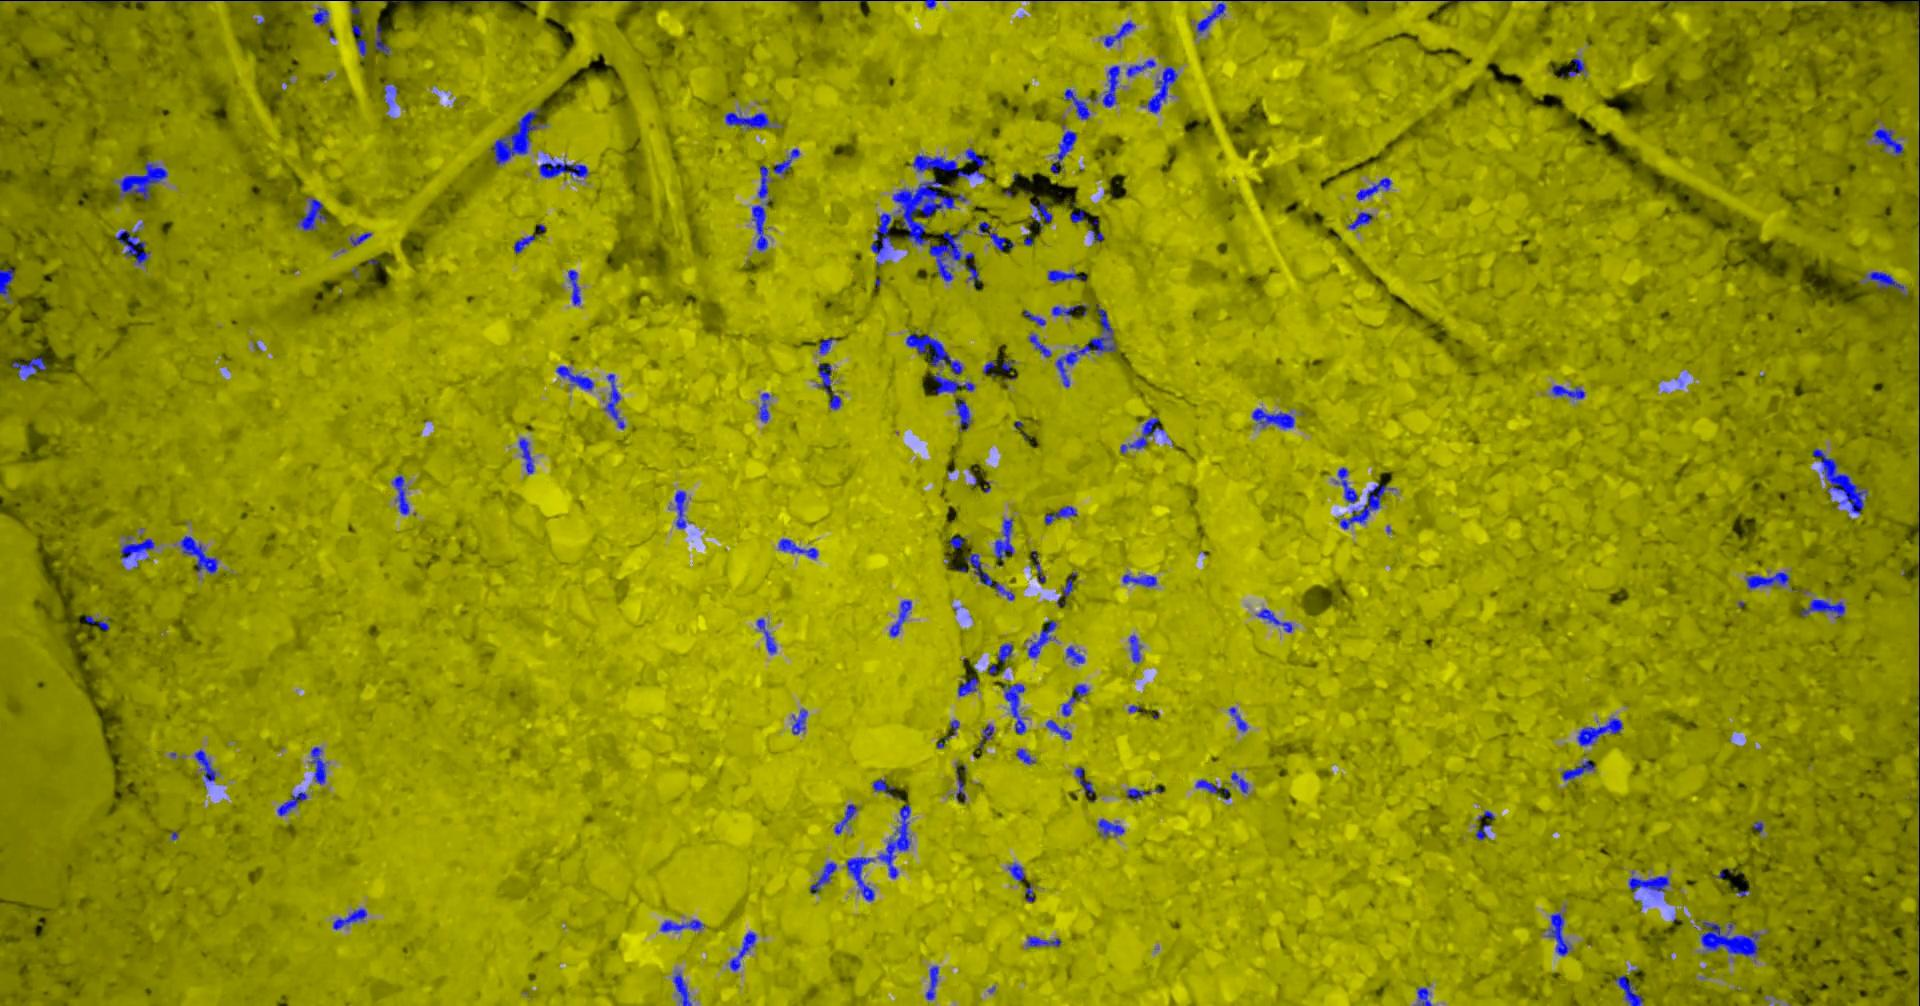ant: (1055, 304, 1116, 386), (1811, 448, 1867, 513), (491, 107, 543, 164), (1338, 481, 1396, 528), (877, 804, 910, 878), (905, 332, 963, 373), (964, 553, 1015, 600), (928, 227, 973, 281), (909, 149, 985, 177), (117, 161, 168, 199), (1142, 65, 1177, 112), (1120, 417, 1163, 453), (180, 535, 217, 573), (1576, 716, 1622, 746), (846, 856, 874, 901), (114, 229, 149, 264), (603, 373, 625, 428), (1049, 130, 1076, 173), (870, 213, 891, 267), (817, 363, 841, 409), (1003, 683, 1025, 734), (1545, 912, 1571, 955), (1027, 620, 1057, 657), (729, 931, 756, 970), (1063, 88, 1096, 119), (1864, 271, 1907, 295), (296, 197, 326, 230), (555, 365, 593, 390), (1196, 0, 1225, 33), (538, 158, 588, 177), (1251, 408, 1294, 429), (513, 224, 545, 253), (932, 372, 974, 394), (724, 111, 773, 128), (1062, 683, 1088, 715), (809, 861, 836, 893), (994, 518, 1013, 561), (1801, 600, 1844, 619), (1615, 976, 1643, 1005), (1873, 128, 1903, 155), (1355, 177, 1390, 199), (1256, 608, 1291, 631), (889, 600, 910, 636), (1745, 572, 1789, 589), (1335, 467, 1357, 502), (119, 536, 154, 559), (1103, 20, 1134, 46), (1074, 766, 1096, 801), (276, 791, 307, 815), (750, 205, 767, 250), (1101, 65, 1119, 107), (11, 356, 46, 377), (778, 539, 817, 558), (833, 803, 856, 835), (756, 619, 776, 654), (331, 908, 366, 929), (1561, 760, 1594, 780), (391, 475, 408, 514), (194, 749, 215, 781), (772, 149, 799, 173), (309, 746, 325, 784), (672, 972, 691, 1005), (1628, 875, 1669, 890), (1044, 506, 1076, 525), (757, 165, 772, 205), (954, 398, 971, 429), (1029, 333, 1051, 357), (1030, 202, 1051, 227), (518, 437, 533, 473), (350, 24, 367, 56), (1126, 58, 1156, 76), (988, 230, 1013, 250), (1045, 719, 1070, 739), (659, 920, 703, 931), (1195, 779, 1229, 793), (1097, 818, 1124, 836), (1048, 269, 1084, 282), (1550, 385, 1583, 399), (924, 965, 938, 998), (1559, 58, 1583, 77), (1228, 706, 1247, 730), (1346, 211, 1371, 229), (568, 269, 580, 305), (1051, 304, 1087, 316), (375, 23, 389, 55), (1031, 550, 1045, 582), (791, 708, 808, 734), (977, 724, 993, 748), (674, 490, 684, 528), (957, 676, 978, 695), (1123, 574, 1156, 586), (84, 615, 108, 630), (1025, 936, 1060, 946), (1023, 309, 1045, 325), (872, 779, 894, 795), (0, 267, 13, 295), (1129, 635, 1142, 662), (1065, 647, 1084, 664), (383, 83, 397, 107), (1230, 772, 1247, 793), (955, 768, 965, 800), (996, 643, 1012, 662), (1007, 862, 1023, 882), (1126, 788, 1150, 800), (759, 392, 770, 422), (818, 337, 836, 353), (1015, 748, 1034, 763), (349, 232, 371, 245), (312, 8, 328, 25), (1416, 987, 1431, 1005), (968, 265, 979, 288), (982, 359, 996, 375), (949, 536, 966, 547), (1062, 578, 1073, 596), (1023, 883, 1034, 901), (1070, 210, 1084, 222), (978, 221, 989, 235), (80, 0, 147, 1)
